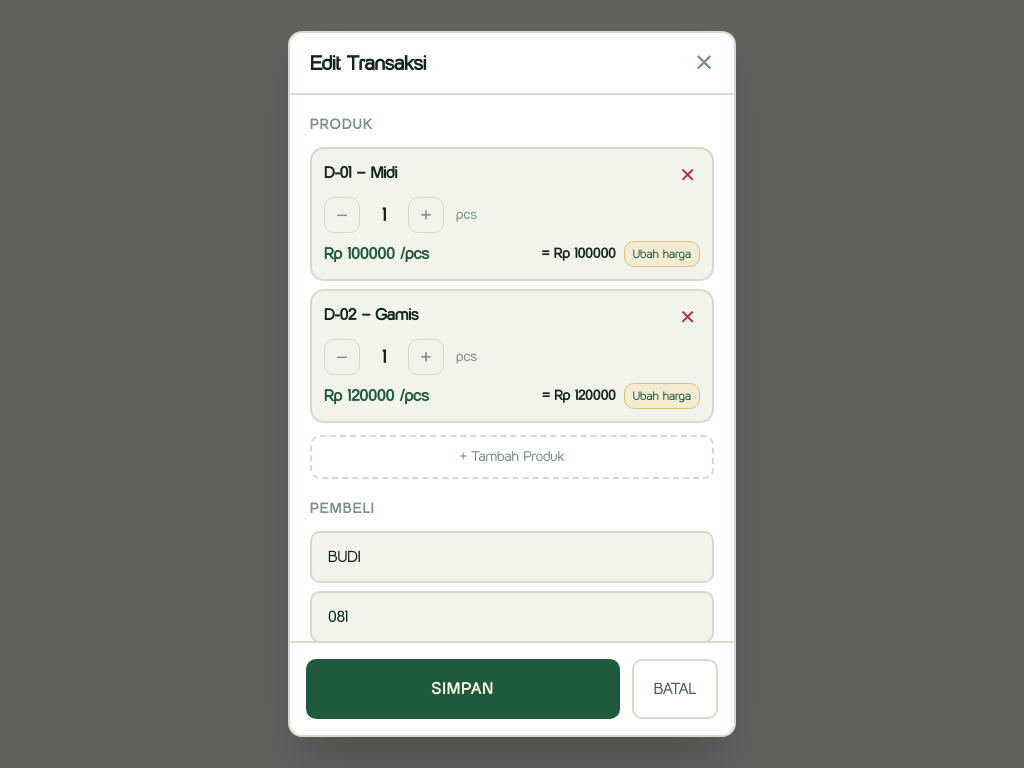
Test: EditSaleModal › removes simple item entirely when qty decremented to 0 and confirmed (multiple items in sale)
Check: the text "D-01 — Midi" is shown, box [324,161,397,185]
Click the button "−" below "D-01" at (342, 215), box [324,197,360,233]
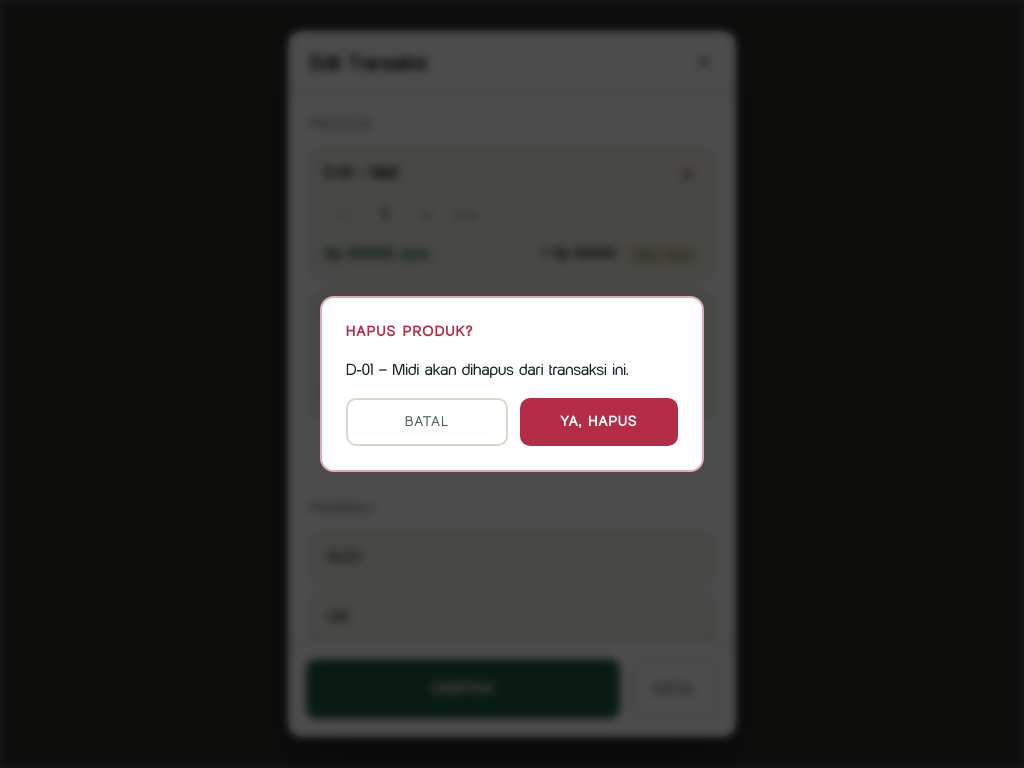
Click the button "Ya, Hapus" at (599, 422), box [520,398,678,446]
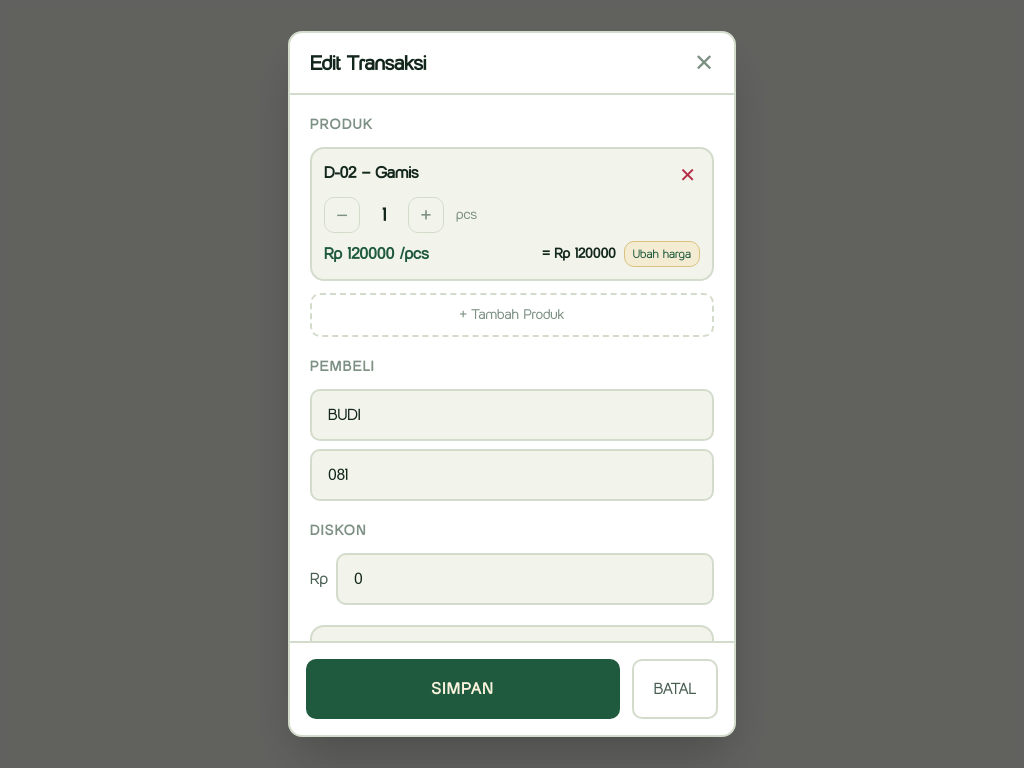
Check: the text "D-01 — Midi" is gone
Check: the text "D-02 — Gamis" is shown, box [324,161,418,185]
